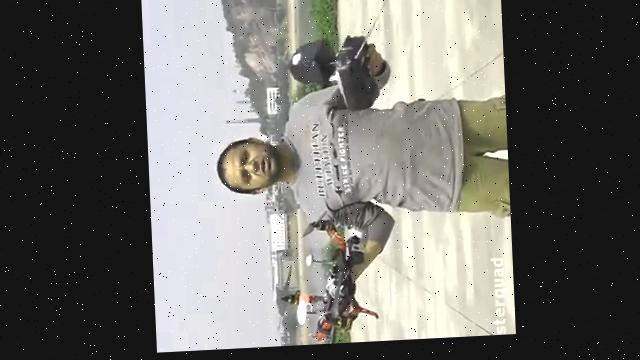drone: (266, 208, 374, 349)
